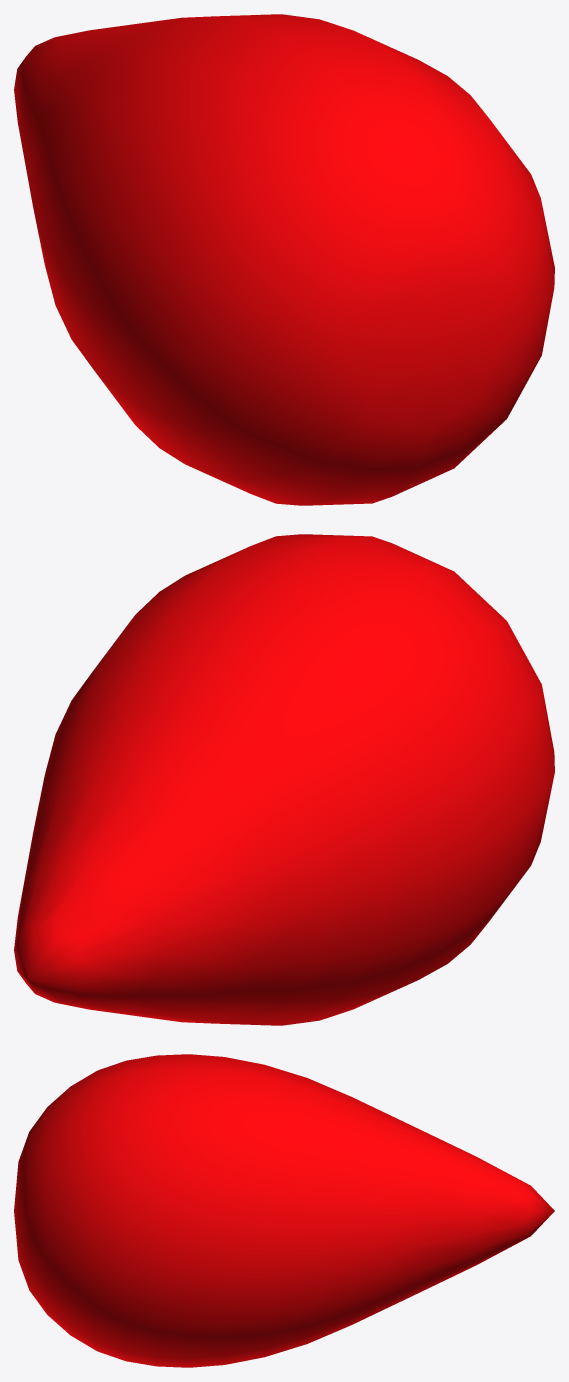
File: Blood Drop.fbx
3 renders of one model, top to bottom at view 1: azimuth 30°, elevation 25°; view 2: azimuth 150°, elevation 25°; view 3: azimuth 270°, elevation 25°, orthographic. The views are drawn at different scales.
Parts seen in each view (by area): view 1: Blood Drop Mesh; view 2: Blood Drop Mesh; view 3: Blood Drop Mesh.
Part boxes in pixels (box(x1,y1,x2,y2)): Blood Drop Mesh: box(14, 14, 554, 505); Blood Drop Mesh: box(14, 534, 554, 1025); Blood Drop Mesh: box(14, 1054, 554, 1367).
Bounding box in the file's own units: 216 × 216 × 372.
